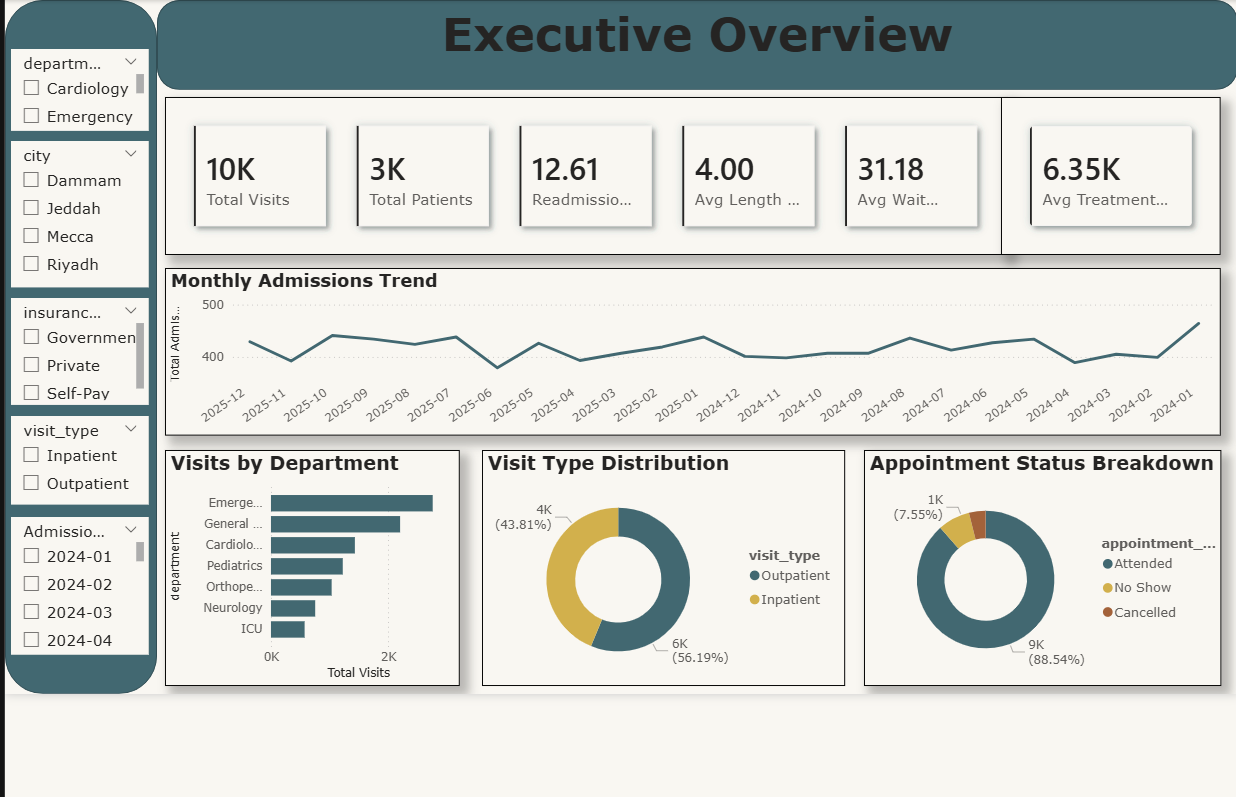

The page's visual inventory and layout, read from the dashboard file:
{"tool":"powerbi","page":{"name":"Page 1","canvas":[1280,720],"ordinal":0},"visuals":[{"type":"cardVisual","fields":{"Data":["Key Measures.Total Visits","Key Measures.Total Patients","Key Measures.Readmission Rate","Key Measures.Avg Length of Stay","Key Measures.Avg Wait Time"]},"box":[194.1,100.7,855.4,114.2],"z":0},{"type":"cardVisual","fields":{"Data":["Key Measures.Avg Treatment Cost"]},"box":[1049.5,100.7,208.7,114.2],"z":1000},{"type":"shape","box":[181.7,0,1098.3,93.4],"z":2000},{"type":"textbox","box":[181.7,0,1098.3,93.4],"z":3000},{"type":"lineChart","fields":{"Category":["hospital_data.AdmissionMonth"],"Y":["Key Measures.Total Admissions"]},"box":[194.1,222.2,1064.1,185.8],"z":4000},{"type":"clusteredBarChart","fields":{"Category":["hospital_data.department"],"Y":["Key Measures.Total Visits"]},"box":[194.1,420.4,308.3,291.7],"z":5000},{"type":"donutChart","fields":{"Category":["hospital_data.visit_type"],"Y":["Key Measures.Total Visits"]},"box":[511.8,420.4,374.8,291.7],"z":6000},{"type":"donutChart","fields":{"Category":["hospital_data.appointment_status"],"Y":["Key Measures.Total Admissions"]},"box":[901.1,420.4,357.1,291.7],"z":7000},{"type":"shape","box":[0,0,181.7,720.5],"z":8000},{"type":"slicer","fields":{"Values":["hospital_data.department"]},"box":[6.2,50.9,170.3,85.1],"z":9000},{"type":"slicer","fields":{"Values":["hospital_data.city"]},"box":[6.2,146.4,170.3,151.6],"z":10000},{"type":"slicer","fields":{"Values":["hospital_data.insurance_type"]},"box":[6.2,309.4,170.3,111.1],"z":11000},{"type":"slicer","fields":{"Values":["hospital_data.visit_type"]},"box":[6.2,431.9,170.3,92.4],"z":12000},{"type":"slicer","fields":{"Values":["hospital_data.AdmissionMonth"]},"box":[6.2,536.7,170.3,143.3],"z":13000}]}

Visuals, with their boxes on the page's 1280x720 design canvas (x1, y1, x2, y2). These are canvas units, not pixel positions in the 1236x797 screenshot, which may show the page scaled, cropped or inside an application window:
cardVisual - Key Measures.Total Visits x Key Measures.Total Patients: (x1=194, y1=101, x2=1050, y2=215)
cardVisual - Key Measures.Avg Treatment Cost: (x1=1050, y1=101, x2=1258, y2=215)
shape: (x1=182, y1=0, x2=1280, y2=93)
textbox: (x1=182, y1=0, x2=1280, y2=93)
lineChart - hospital_data.AdmissionMonth x Key Measures.Total Admissions: (x1=194, y1=222, x2=1258, y2=408)
clusteredBarChart - hospital_data.department x Key Measures.Total Visits: (x1=194, y1=420, x2=502, y2=712)
donutChart - hospital_data.visit_type x Key Measures.Total Visits: (x1=512, y1=420, x2=887, y2=712)
donutChart - hospital_data.appointment_status x Key Measures.Total Admissions: (x1=901, y1=420, x2=1258, y2=712)
shape: (x1=0, y1=0, x2=182, y2=720)
slicer - hospital_data.department: (x1=6, y1=51, x2=176, y2=136)
slicer - hospital_data.city: (x1=6, y1=146, x2=176, y2=298)
slicer - hospital_data.insurance_type: (x1=6, y1=309, x2=176, y2=420)
slicer - hospital_data.visit_type: (x1=6, y1=432, x2=176, y2=524)
slicer - hospital_data.AdmissionMonth: (x1=6, y1=537, x2=176, y2=680)
